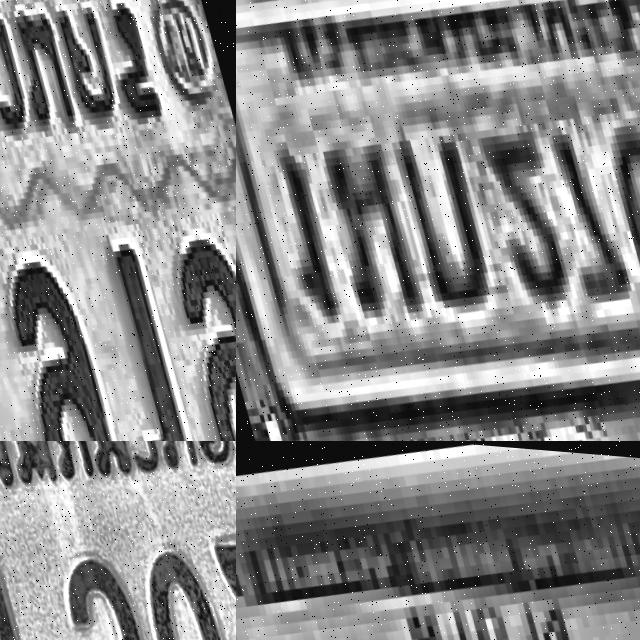license-plate: (236, 0, 640, 441), (0, 0, 236, 441), (236, 441, 640, 640), (0, 441, 236, 640)
